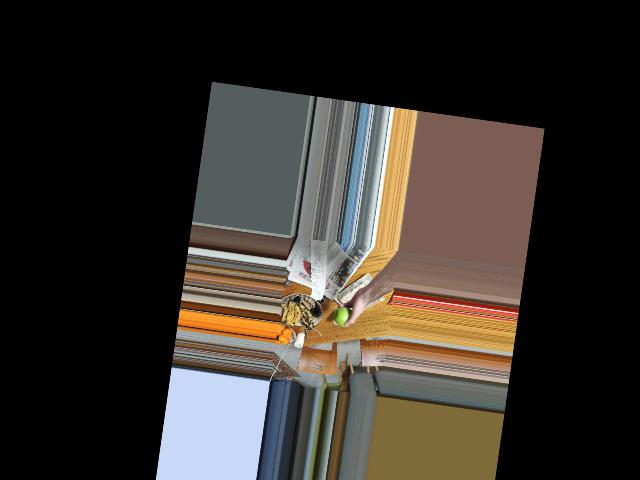apple: (332, 302, 356, 329)
